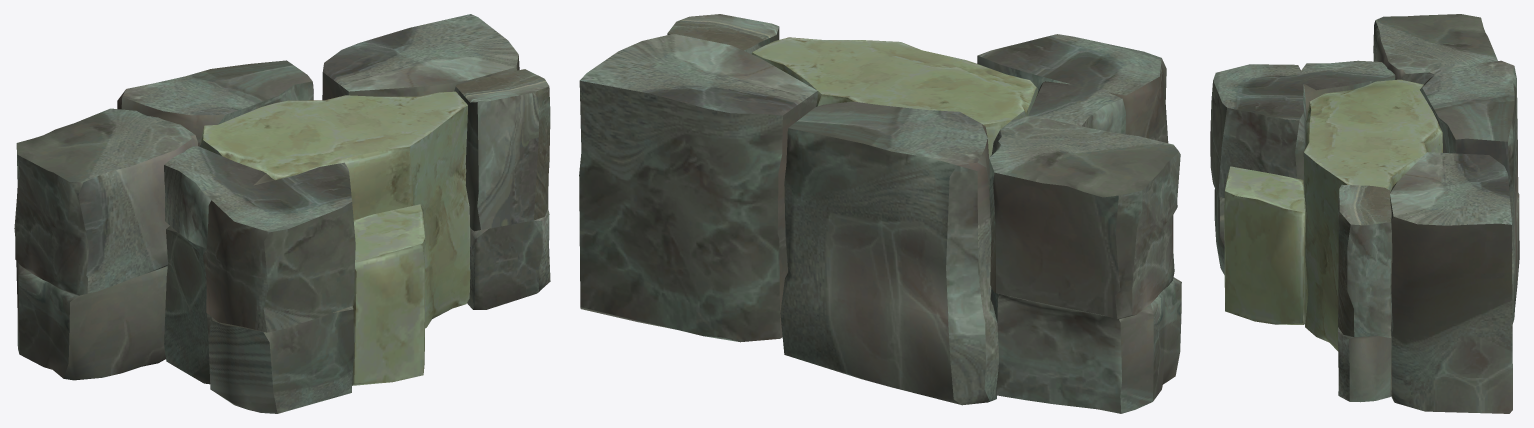
Rendered from Ruins_Wall_DMG_Top_Cnr_R_A.fbx.
The picture shows the model from 3 angles, left to right: view 1: azimuth 30°, elevation 25°; view 2: azimuth 150°, elevation 25°; view 3: azimuth 270°, elevation 25°; orthographic projection. The views are drawn at different scales.
Parts seen in each view (by area): view 1: Ruins_Wall_DMG_Top_Cnr_R_A; view 2: Ruins_Wall_DMG_Top_Cnr_R_A; view 3: Ruins_Wall_DMG_Top_Cnr_R_A.
Part boxes in pixels (x1,y1,x2,y2): Ruins_Wall_DMG_Top_Cnr_R_A: (14,14,550,413); Ruins_Wall_DMG_Top_Cnr_R_A: (579,14,1181,413); Ruins_Wall_DMG_Top_Cnr_R_A: (1210,14,1519,413).
Bounding box in the file's own units: 682 × 289 × 412.
